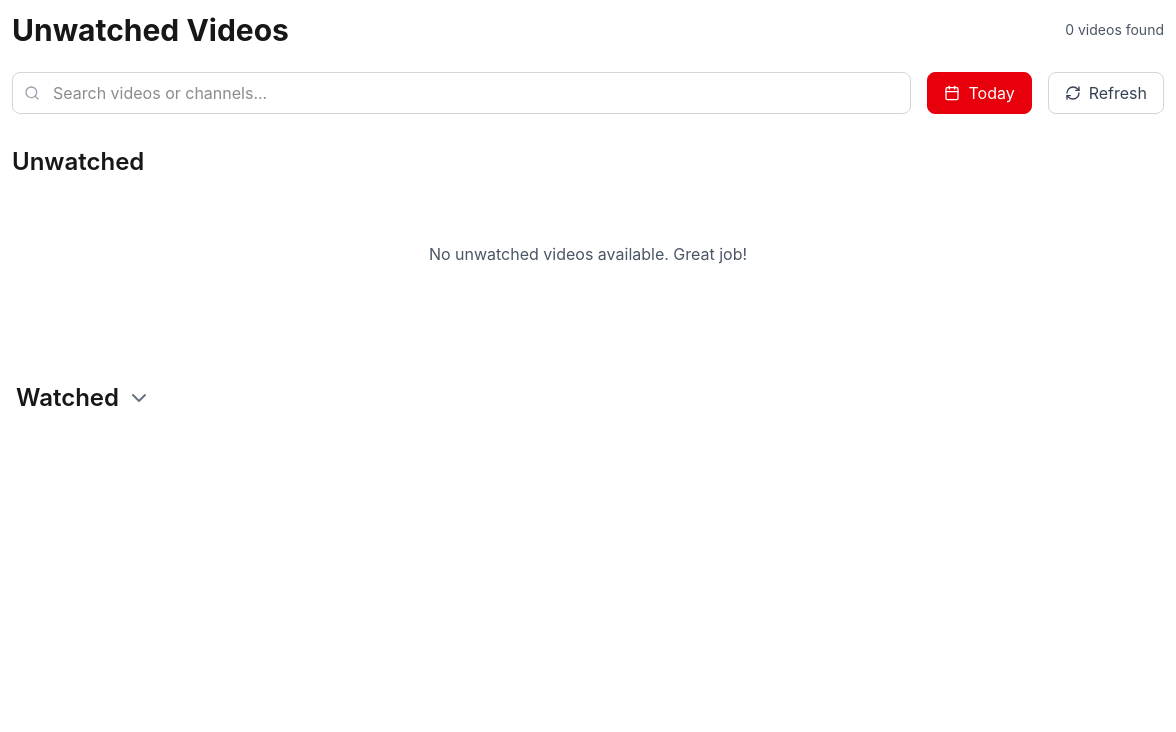
Scenario: VideosPage › watched videos accordion is collapsed by default and can be toggled
This screenshot has width=1176, height=732.
Expected: the heading "Watched" is shown, x1=16 y1=382 x2=119 y2=414
Expected: the text "Test Watched Video" is not shown
Click to expand the accordion
Click the button "Watched": (68, 398) x1=12 y1=378 x2=1164 y2=418
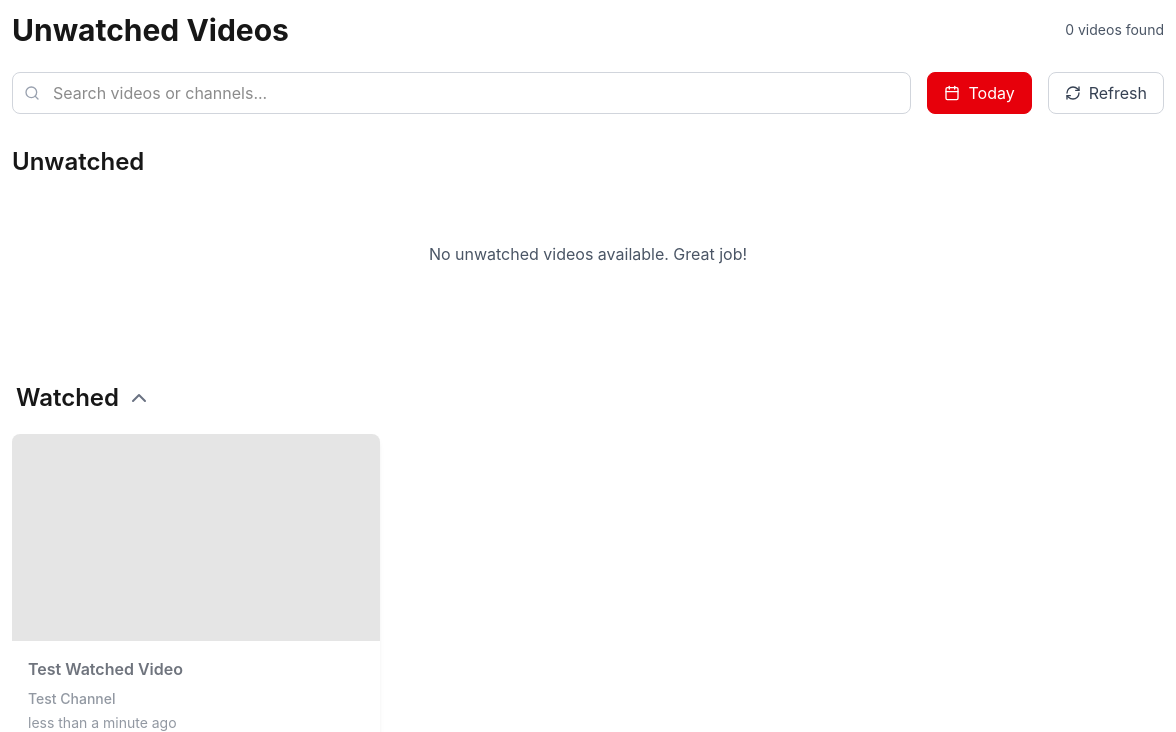
Result: the button "Watched" is expanded
Result: the heading "Test Watched Video" is shown at x1=28 y1=659 x2=183 y2=679
Click again to collapse the accordion
Click the button "Watched": (68, 398) x1=12 y1=378 x2=1164 y2=418
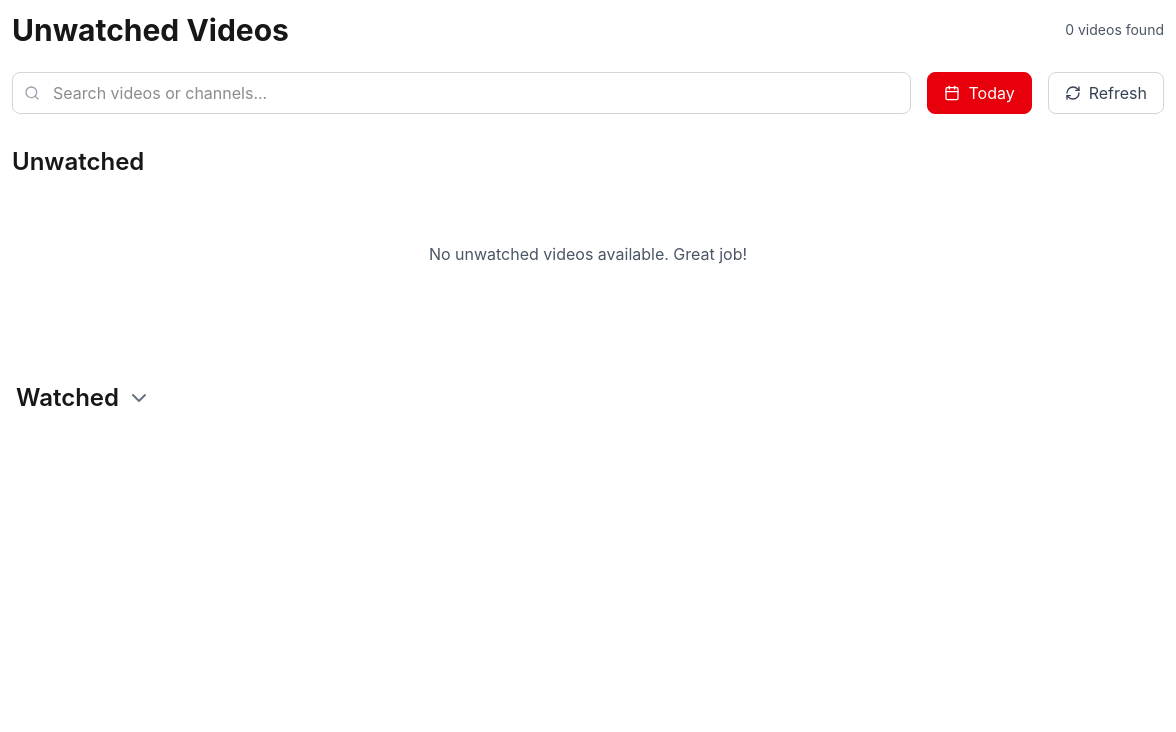
Result: the button "Watched" is collapsed at x1=12 y1=378 x2=1164 y2=418
Result: the link "Test Watched Video" is gone
